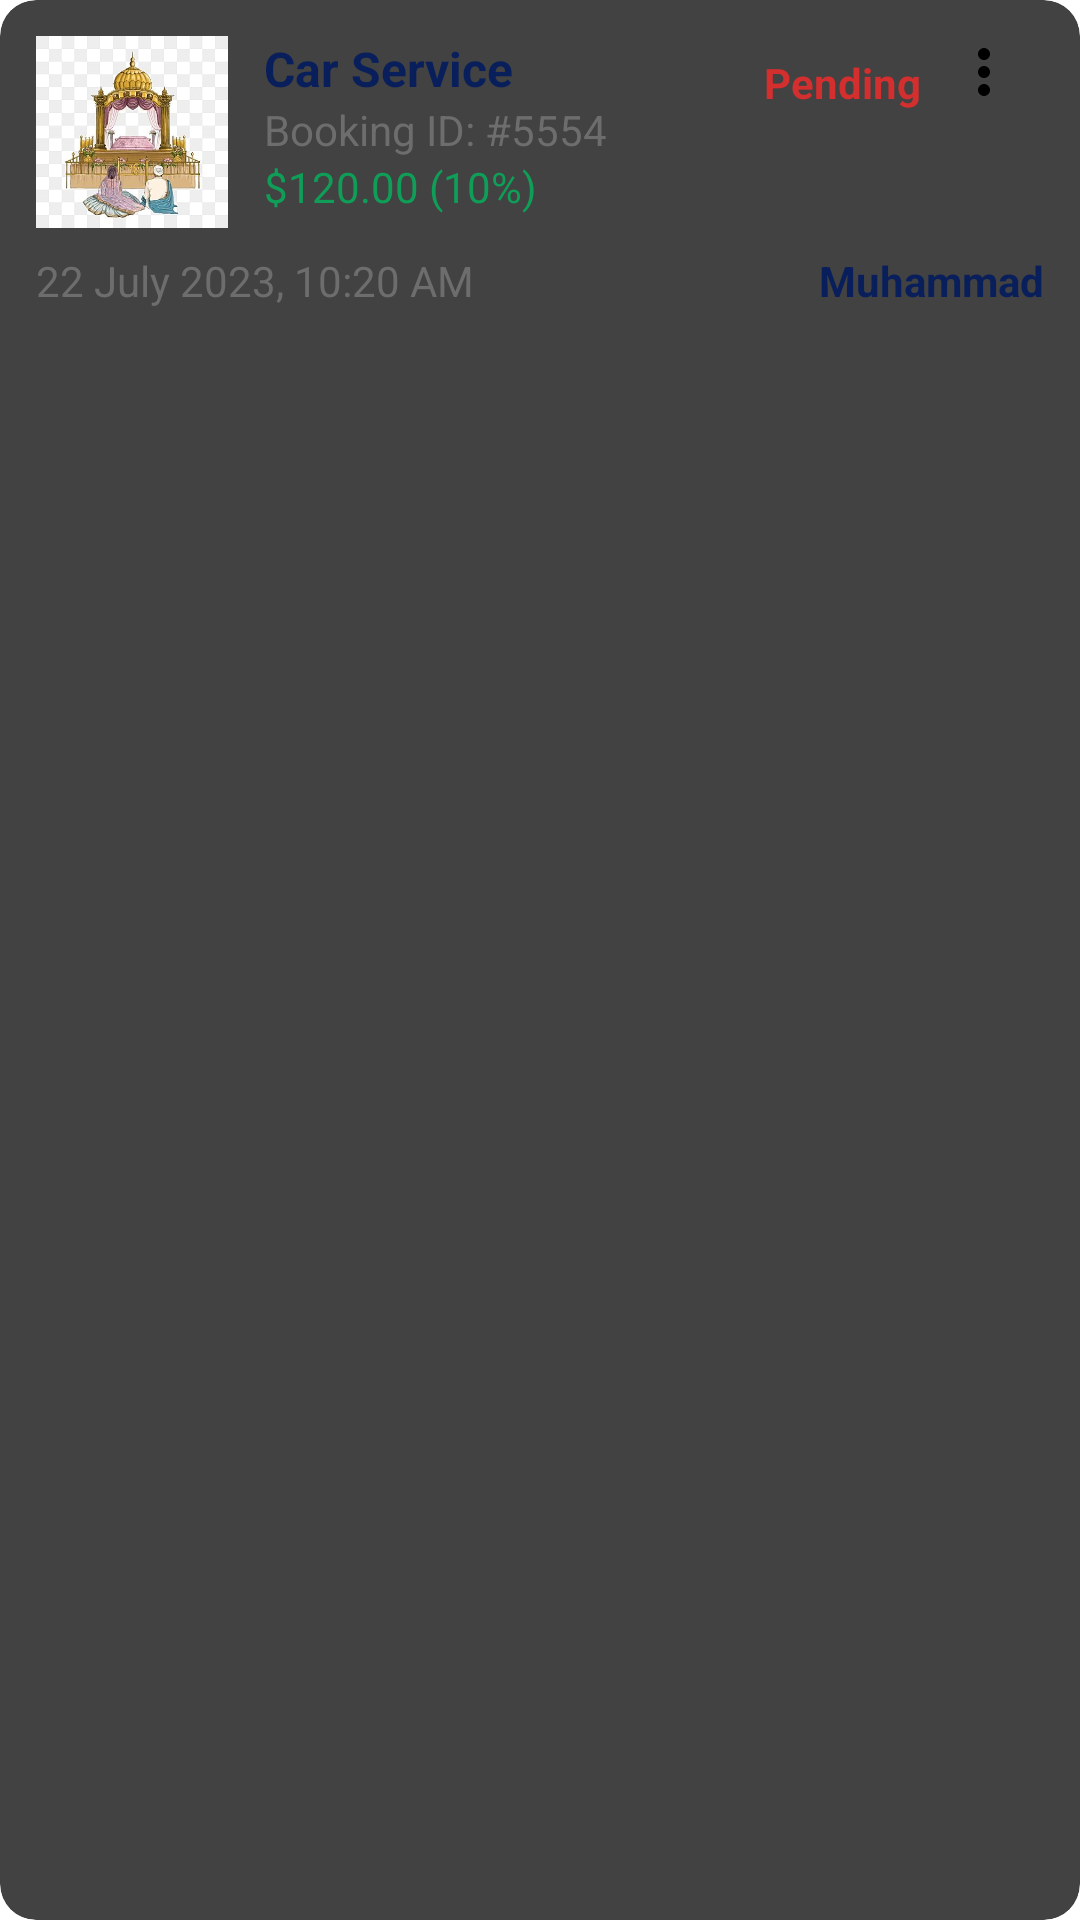

Point at icon controls on the screen. Image size 1080w x 1920h, points as point (x, y).
Options Menu: point (984, 72)
